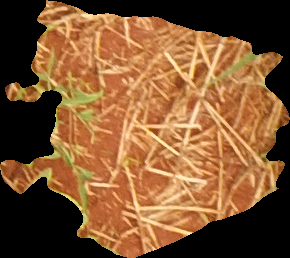soil: (2, 3, 286, 252)
